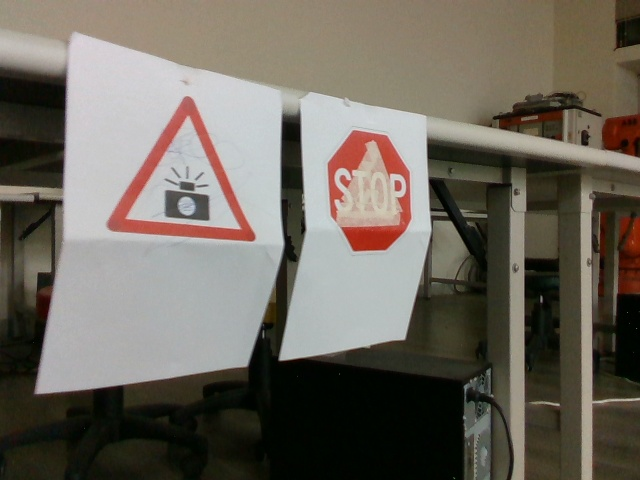camera: (114, 97, 254, 239)
stop: (330, 129, 412, 255)
